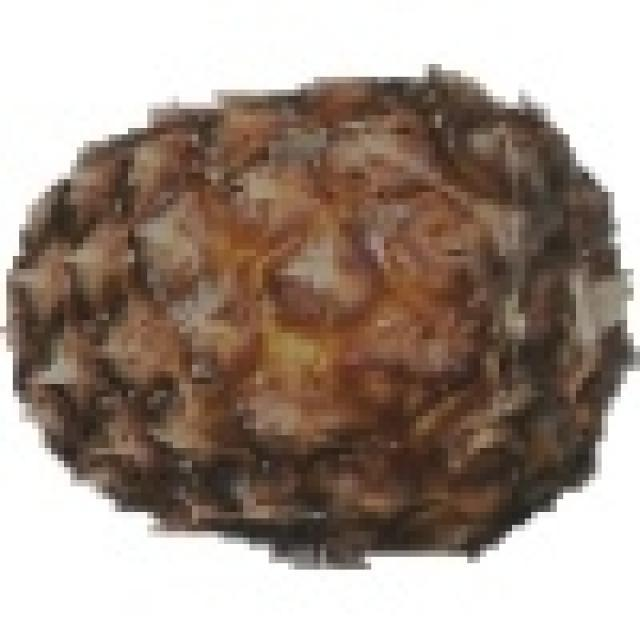pineapple: (0, 64, 614, 550)
